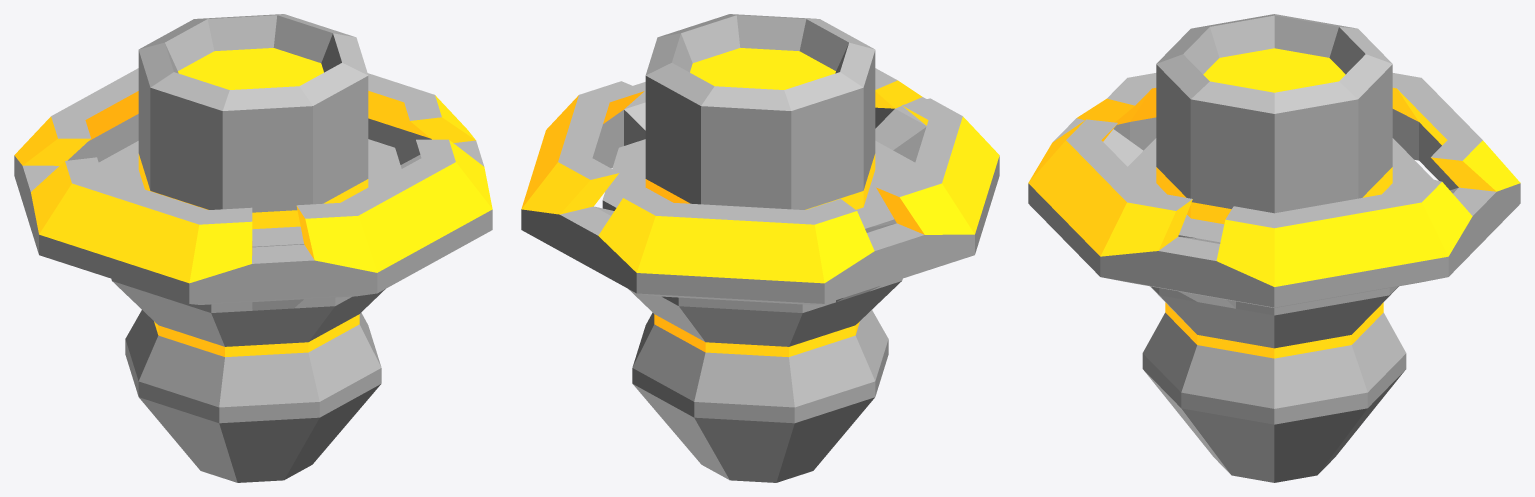
The model's file is tesladržiak.fbx.
3 views of the same model, side by side, from view 1: azimuth 30°, elevation 25°; view 2: azimuth 150°, elevation 25°; view 3: azimuth 270°, elevation 25° (orthographic).
Visible parts, largest first — view 1: Circle; view 2: Circle; view 3: Circle.
Boxes of the visible parts, left/top/right/bottom form: Circle: left=14, top=14, right=492, bottom=482; Circle: left=521, top=14, right=999, bottom=482; Circle: left=1028, top=14, right=1520, bottom=482.
Bounding box in the file's own units: 540 × 488 × 540.
